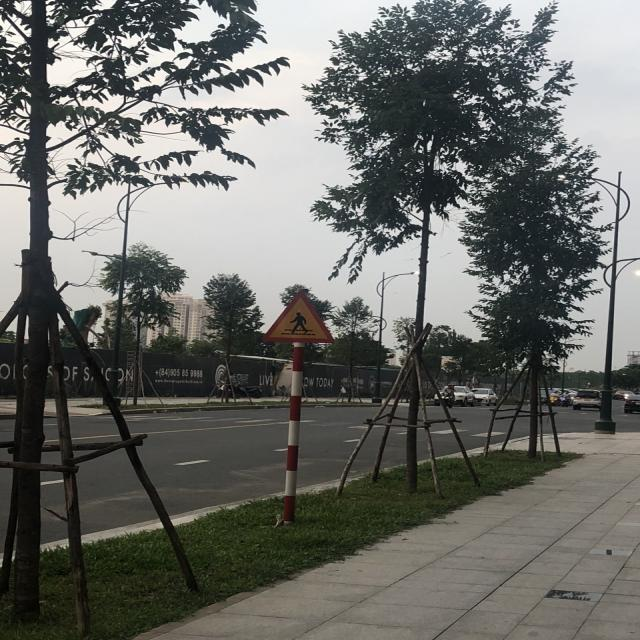Bien bao duong nguoi di bo cat ngang: (255, 285, 344, 346)
